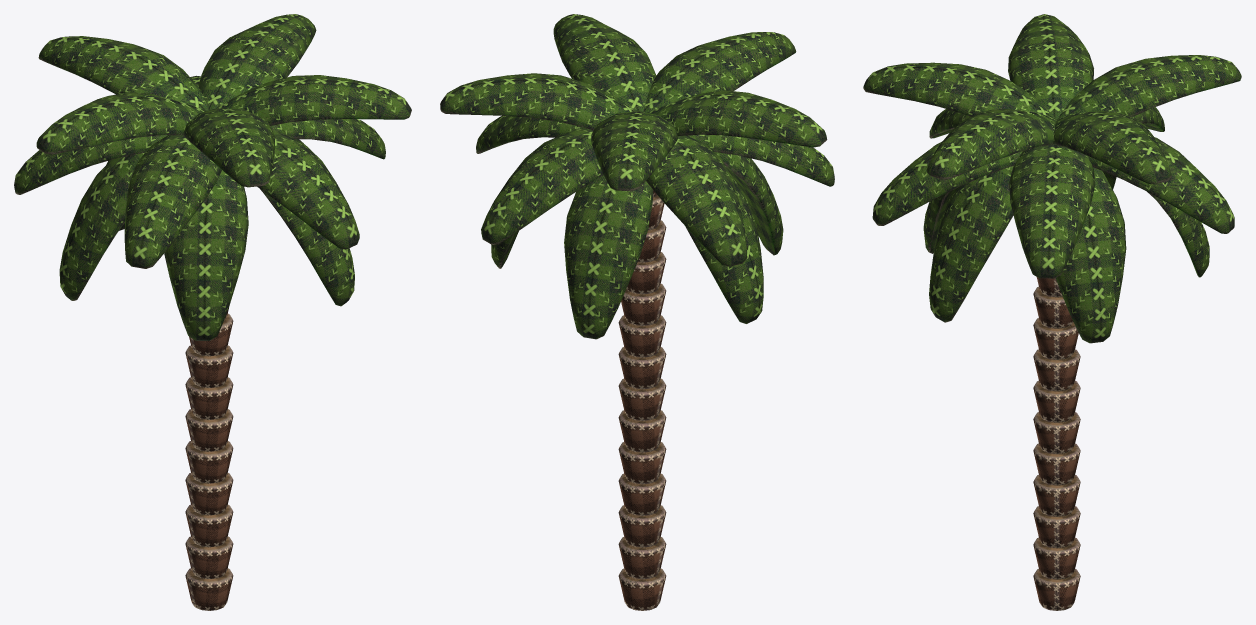
File: lpb_cs_tree24.fbx
The picture shows the model from 3 angles, left to right: view 1: azimuth 30°, elevation 25°; view 2: azimuth 150°, elevation 25°; view 3: azimuth 270°, elevation 25°; orthographic projection.
Visible parts, largest first — view 1: lpb_cs_tree24; view 2: lpb_cs_tree24; view 3: lpb_cs_tree24.
Part boxes in pixels (box(x1,y1,x2,y2)): lpb_cs_tree24: box(14, 14, 411, 610); lpb_cs_tree24: box(440, 14, 834, 610); lpb_cs_tree24: box(863, 14, 1241, 610).
Bounding box in the file's own units: 156 × 229 × 151.
